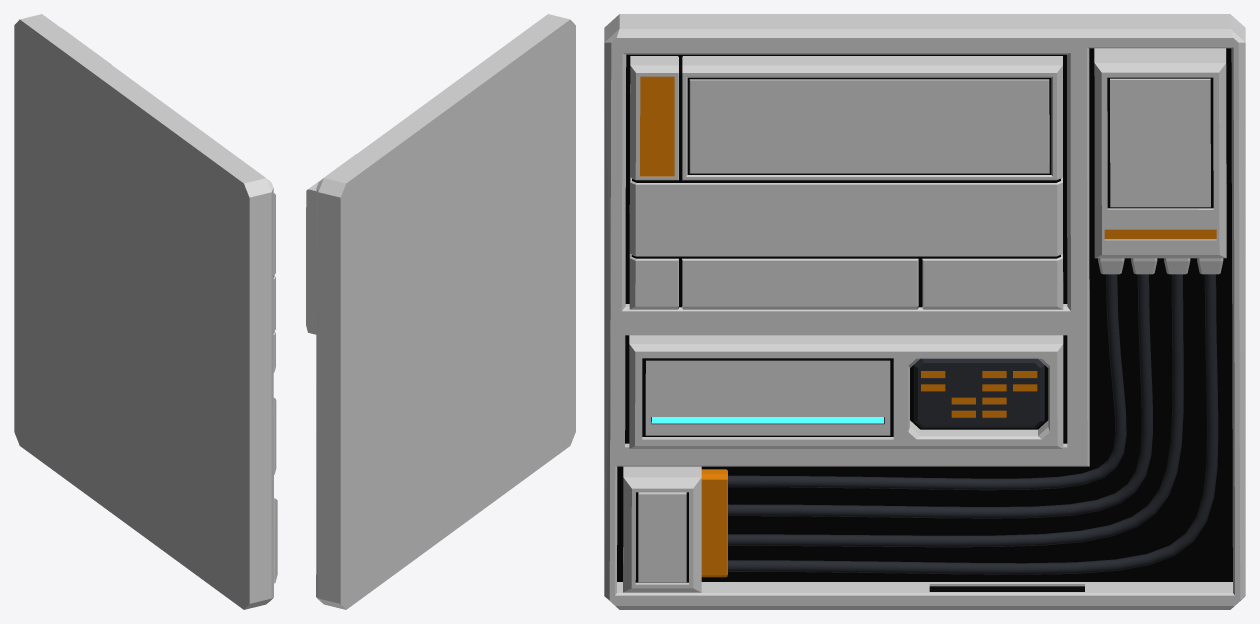
Rendered from SM_WallDecor_CablePanel_Wide.glb.
3 views of the same model, side by side, from view 1: azimuth 30°, elevation 25°; view 2: azimuth 150°, elevation 25°; view 3: azimuth 270°, elevation 25° (orthographic). The views are drawn at different scales.
Visible parts, largest first — view 1: SM_WallDecor_CablePanel_Wide.001; view 2: SM_WallDecor_CablePanel_Wide.001; view 3: SM_WallDecor_CablePanel_Wide.001.
Boxes of the visible parts, x1,y1,x2,y2 form: SM_WallDecor_CablePanel_Wide.001: (14,14,277,609); SM_WallDecor_CablePanel_Wide.001: (306,14,575,609); SM_WallDecor_CablePanel_Wide.001: (604,14,1245,609).
Size of the model in its own units: 0.4347 by 4 by 4.
